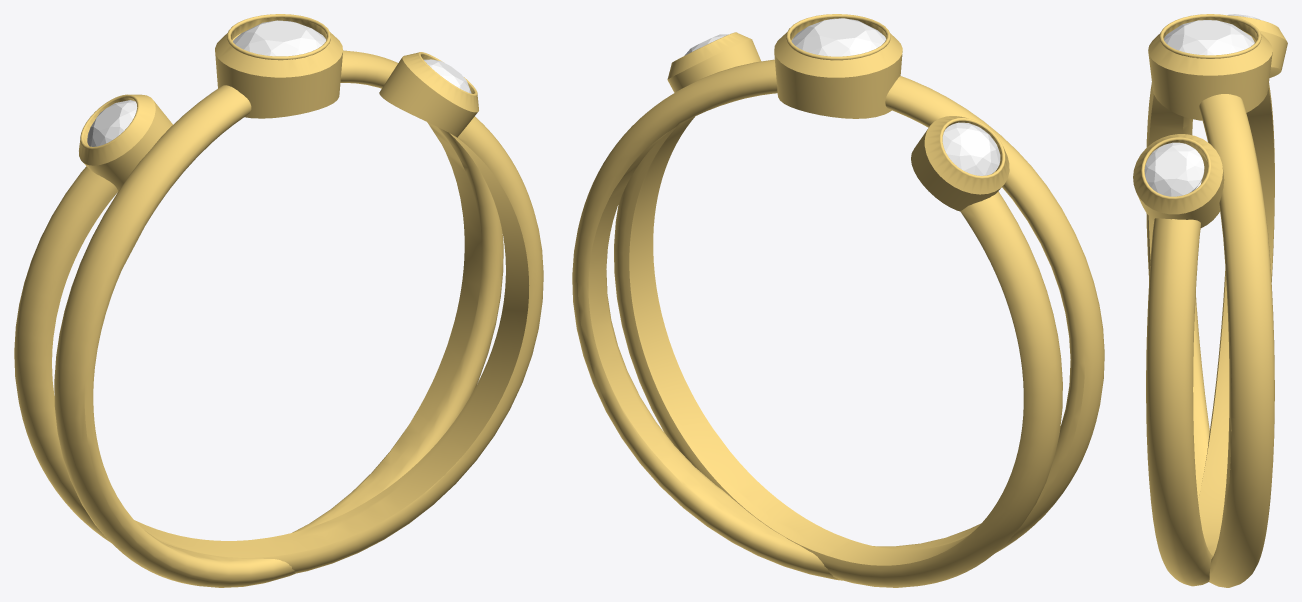
File: vimal_webgi.glb
The picture shows the model from 3 angles, left to right: view 1: azimuth 30°, elevation 25°; view 2: azimuth 150°, elevation 25°; view 3: azimuth 270°, elevation 25°; orthographic projection. The views are drawn at different scales.
Visible parts, largest first — view 1: Sukarman_Vimal001, Sukarman_Vimal005, Sukarman_Vimal006; view 2: Sukarman_Vimal001, Sukarman_Vimal005, Sukarman_Vimal006; view 3: Sukarman_Vimal001, Sukarman_Vimal007, Sukarman_Vimal005.
Part boxes in pixels (x1,y1,x2,y2): Sukarman_Vimal001: (14, 14, 543, 587); Sukarman_Vimal005: (233, 20, 326, 56); Sukarman_Vimal006: (87, 100, 137, 146); Sukarman_Vimal001: (572, 14, 1104, 587); Sukarman_Vimal005: (791, 18, 886, 56); Sukarman_Vimal006: (942, 122, 1000, 175); Sukarman_Vimal001: (1133, 14, 1287, 587); Sukarman_Vimal007: (1144, 142, 1204, 196); Sukarman_Vimal005: (1164, 20, 1254, 55).
Size of the model in its own units: 2.67 by 2.88 by 0.7599.
